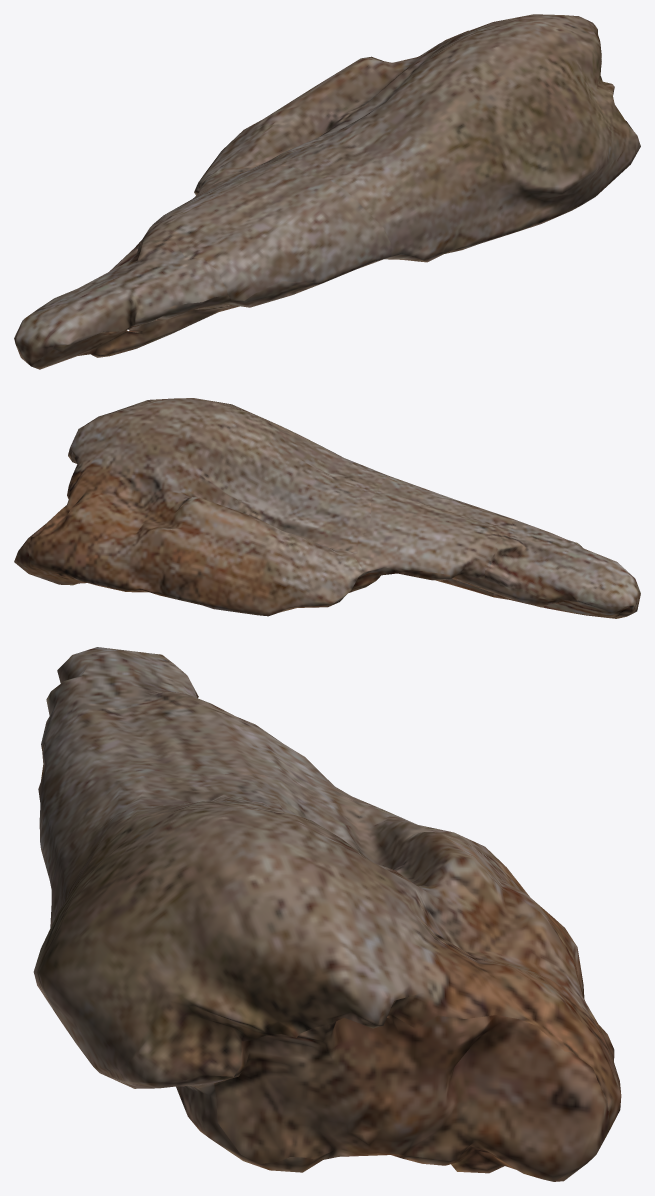
Rendered from SM_For_Sca_Stick_Set_02_A.gltf.
The picture shows the model from 3 angles, top to bottom: view 1: azimuth 30°, elevation 25°; view 2: azimuth 150°, elevation 25°; view 3: azimuth 270°, elevation 25°; orthographic projection. The views are drawn at different scales.
Parts seen in each view (by area): view 1: SM_For_Sca_Stick_Set_02_A; view 2: SM_For_Sca_Stick_Set_02_A; view 3: SM_For_Sca_Stick_Set_02_A.
Part boxes in pixels (box(x1,y1,x2,y2)): SM_For_Sca_Stick_Set_02_A: box(14, 14, 640, 369); SM_For_Sca_Stick_Set_02_A: box(14, 398, 640, 618); SM_For_Sca_Stick_Set_02_A: box(33, 647, 621, 1181).
Size of the model in its own units: 0.1101 by 0.0302 by 0.0553.
Materials: 1 (1 with a texture image).
